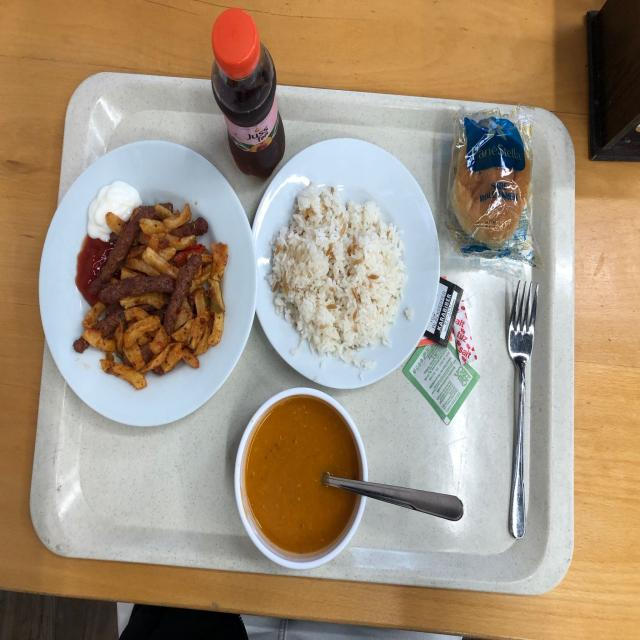ana_yemek: (36, 138, 259, 424), (260, 137, 421, 391)
corba: (232, 388, 356, 564)
